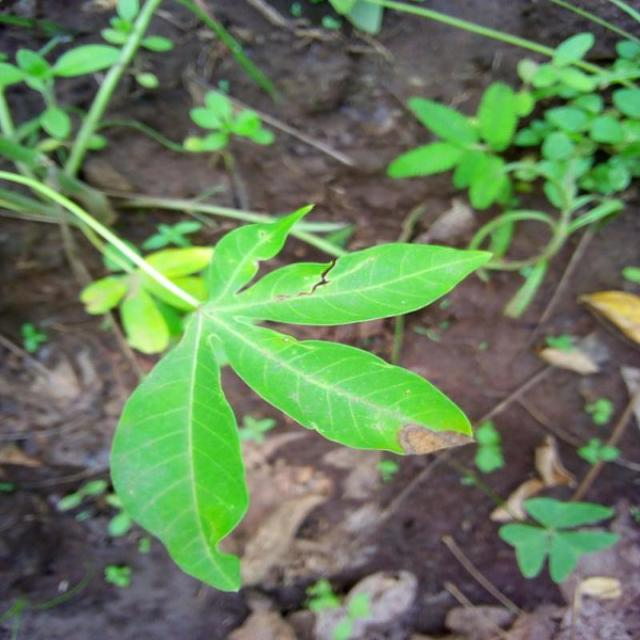cassava leaf: (107, 201, 492, 593)
